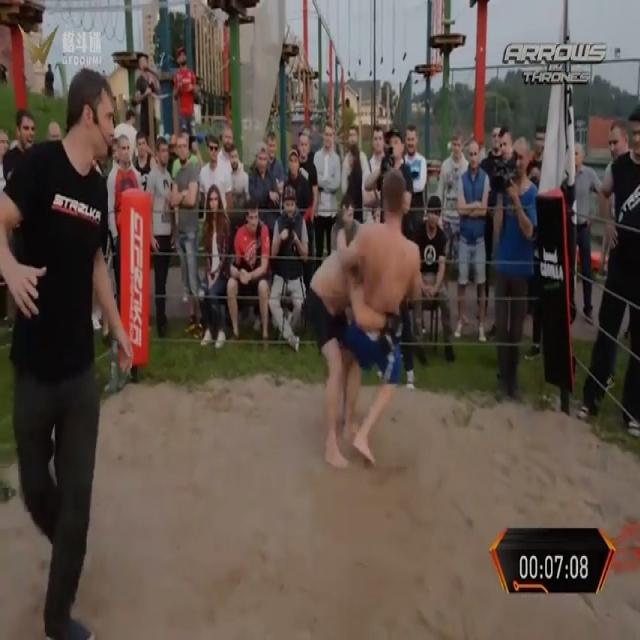fight: (301, 171, 435, 474)
non-fight: (0, 62, 139, 638), (267, 180, 311, 347), (190, 186, 234, 350), (310, 121, 346, 262)
